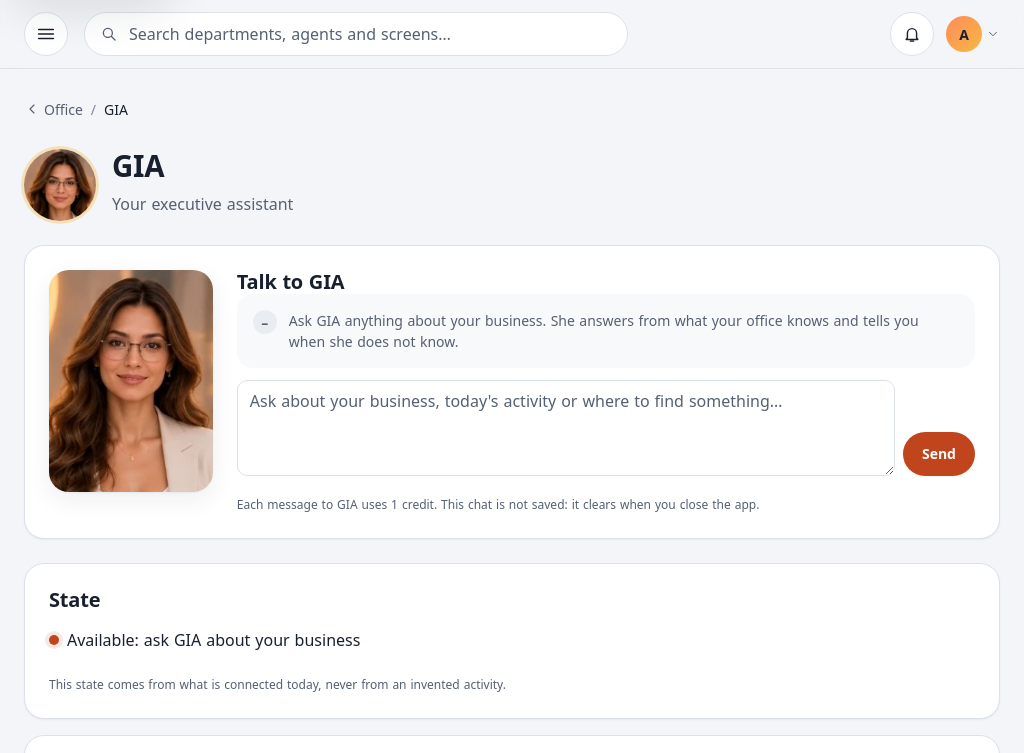
Test: GIA's follow-up proposal (C5) › tells a role that may not schedule follow-ups, with no form
Replace the text in the text box named "Your message to GIA" with "Recuérdame llamar a Juan mañana" at (566,428), box [237,380,895,476]
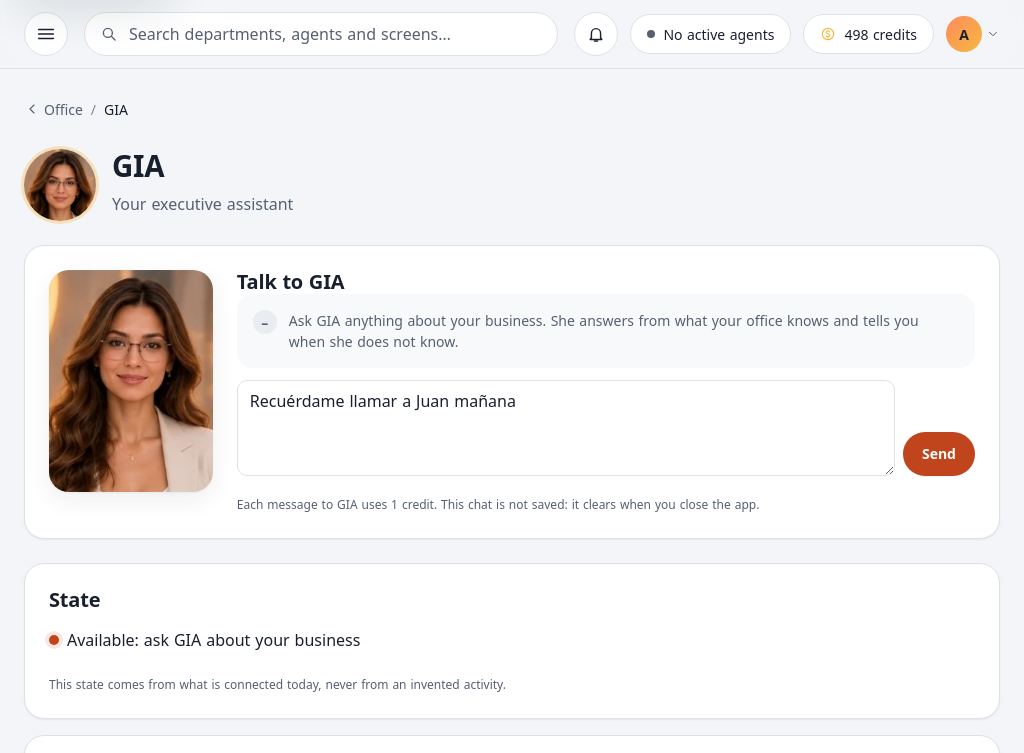
Click the button "Send" at (939,454), box [903,432,975,476]
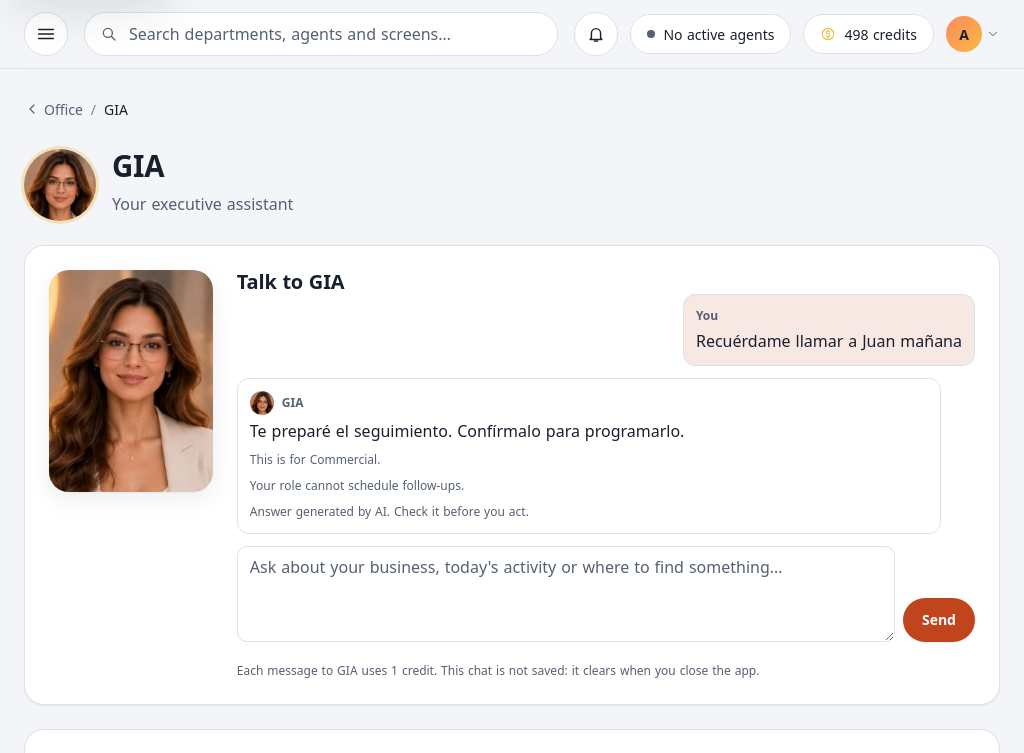
expect the text "Your role cannot schedule follow-ups." is shown: met, box [250,477,464,494]
